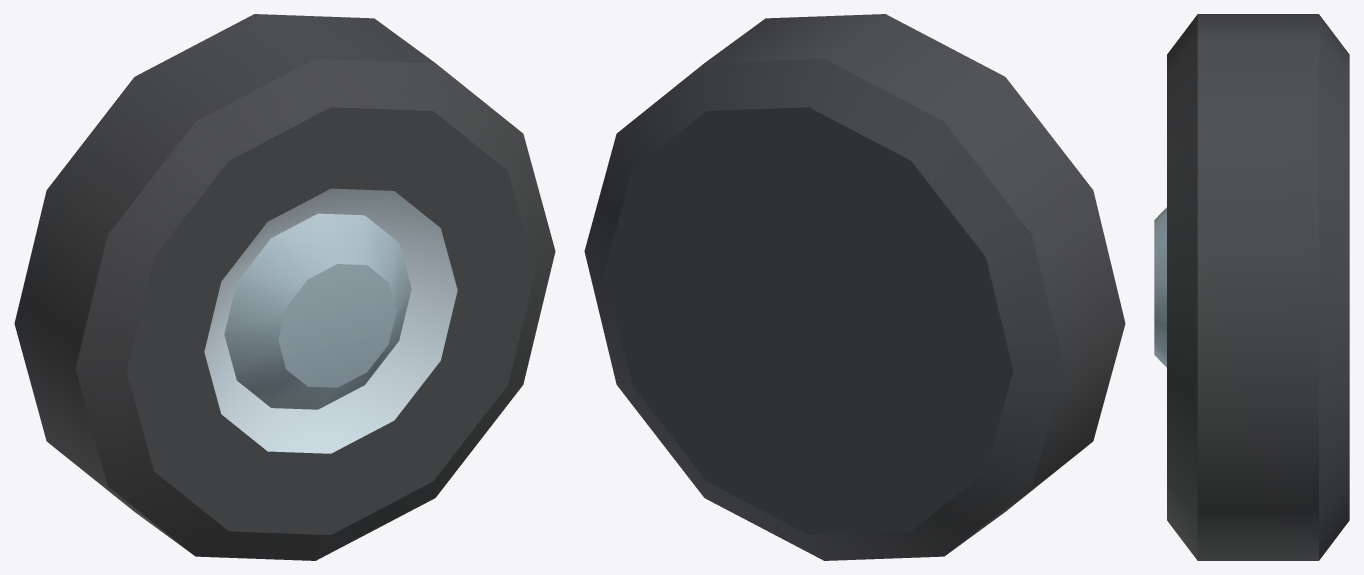
Rendered from Wheel_02.glb.
The picture shows the model from 3 angles, left to right: view 1: azimuth 30°, elevation 25°; view 2: azimuth 150°, elevation 25°; view 3: azimuth 270°, elevation 25°; orthographic projection.
Visible parts, largest first — view 1: Wheel_02; view 2: Wheel_02; view 3: Wheel_02.
Boxes of the visible parts, bbox=[...] form: Wheel_02: bbox=[14, 14, 555, 560]; Wheel_02: bbox=[584, 14, 1125, 560]; Wheel_02: bbox=[1154, 14, 1349, 560].
Bounding box in the file's own units: 1.03 × 1.03 × 0.3651.
Materials: 1 (1 with a texture image).
